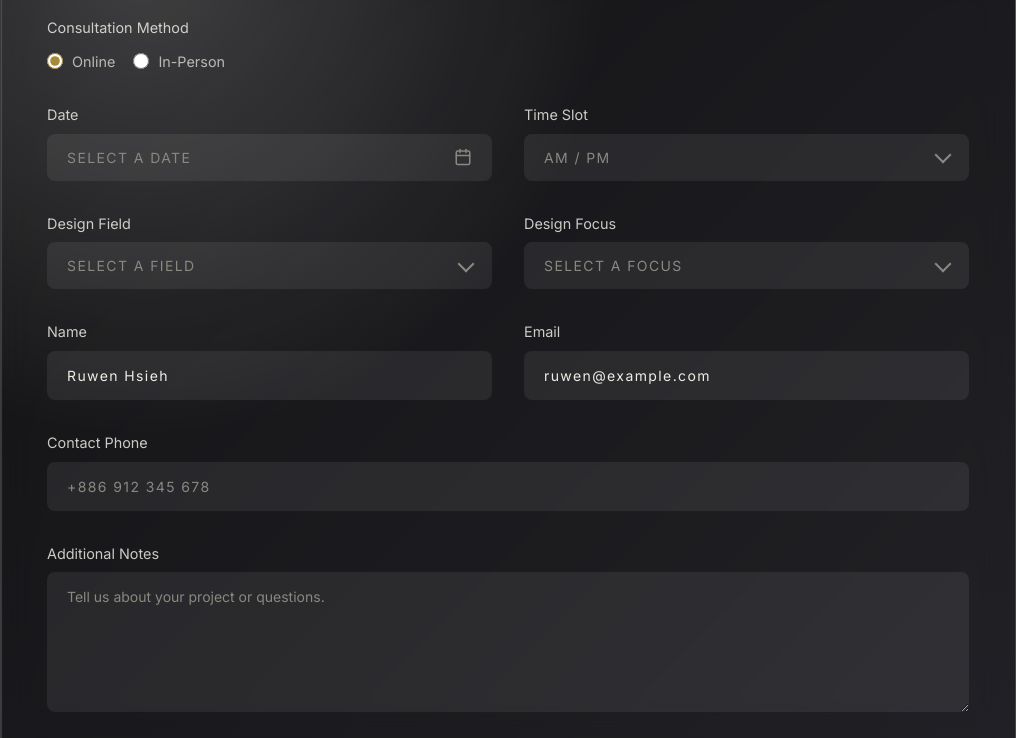
Test case: RecommendationPanel › resets form state
Click the button with class "recommendation-panel__date-trigger" at (129, 157), box [47, 134, 492, 181]
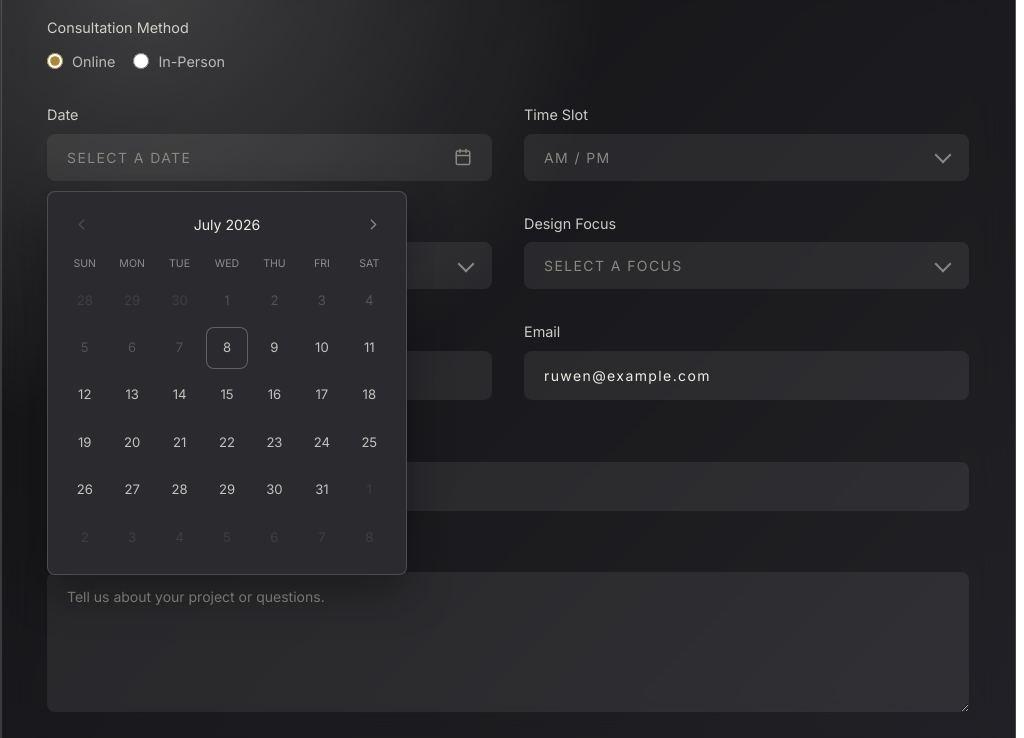
Check: the 11th button with class "recommendation-panel__calendar-day" is shown
Click the 11th button with class "recommendation-panel__calendar-day" at (227, 348), box [206, 327, 248, 368]
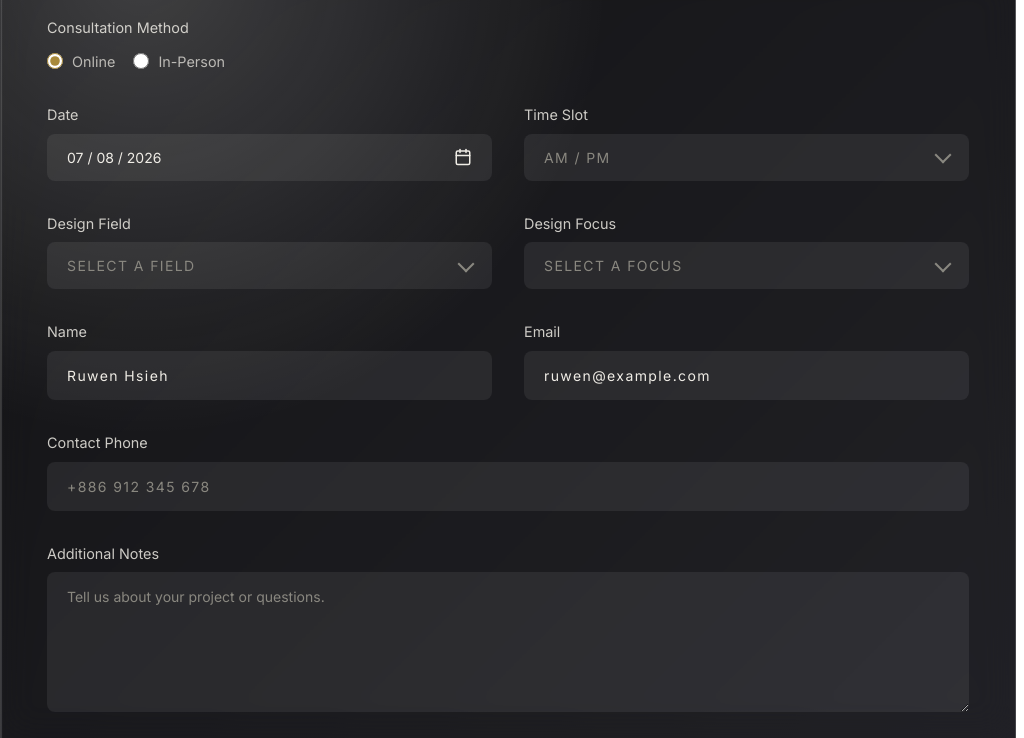
Replace the text in the field with class "overlay-input" showing "Name" with "Custom Name" at (270, 376), box [47, 351, 492, 400]
(page scrolled)
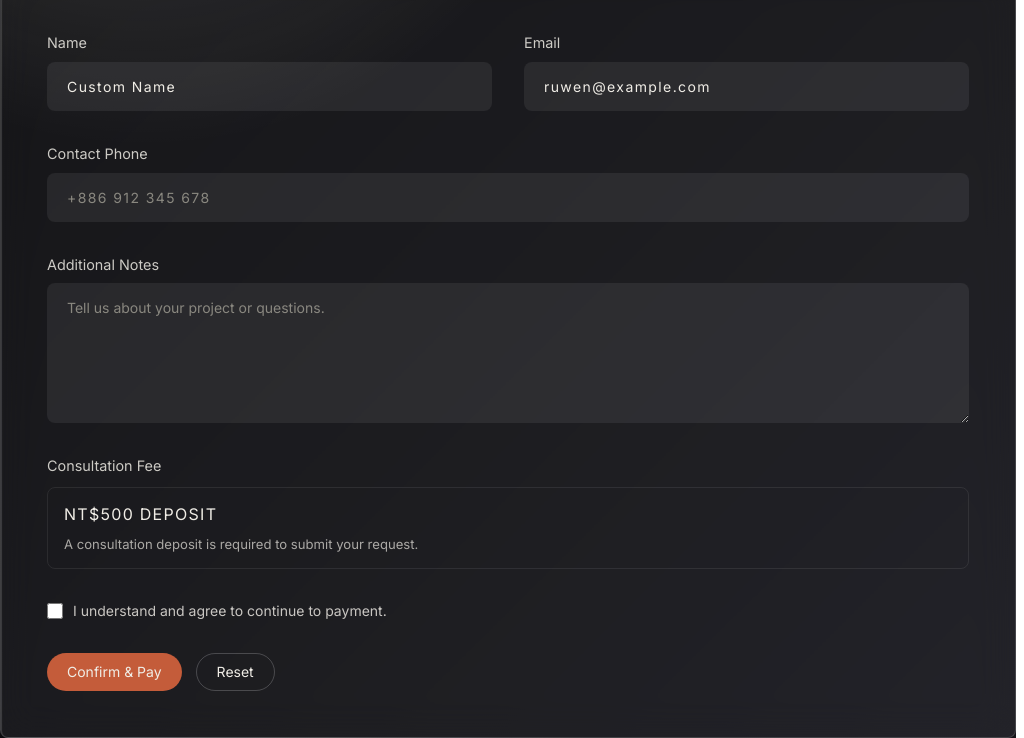
Click the checkbox labelled "I understand and agree to continue to payment." at (55, 611), box [47, 603, 63, 619]
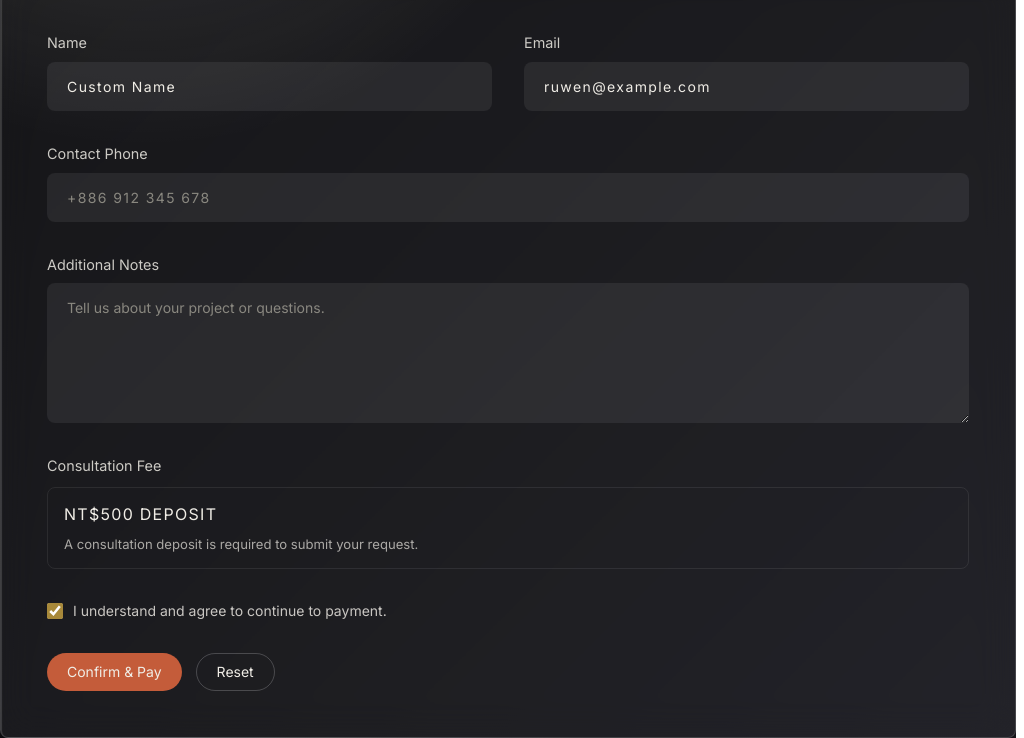
Click the button "Reset" at (235, 672), box [196, 654, 275, 692]
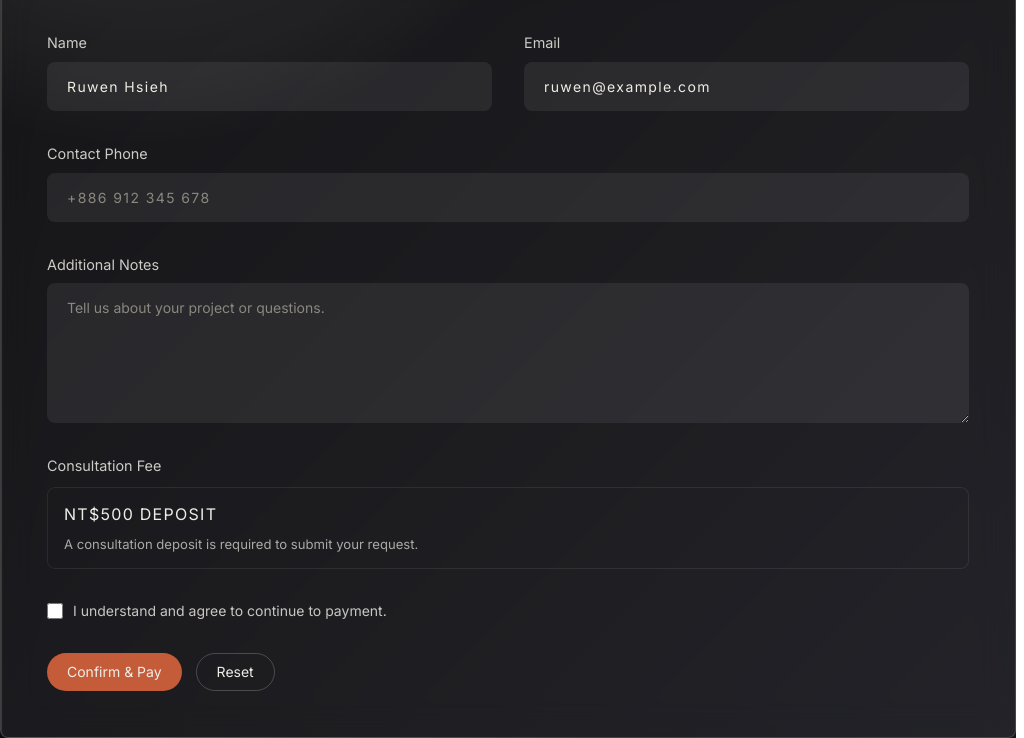
Check: the field with class "overlay-input" is empty, box [47, 173, 969, 222]
Check: the checkbox labelled "I understand and agree to continue to payment." is not checked, box [47, 603, 63, 619]
Check: the field with class "overlay-input" holds "Ruwen Hsieh", box [47, 62, 492, 111]
